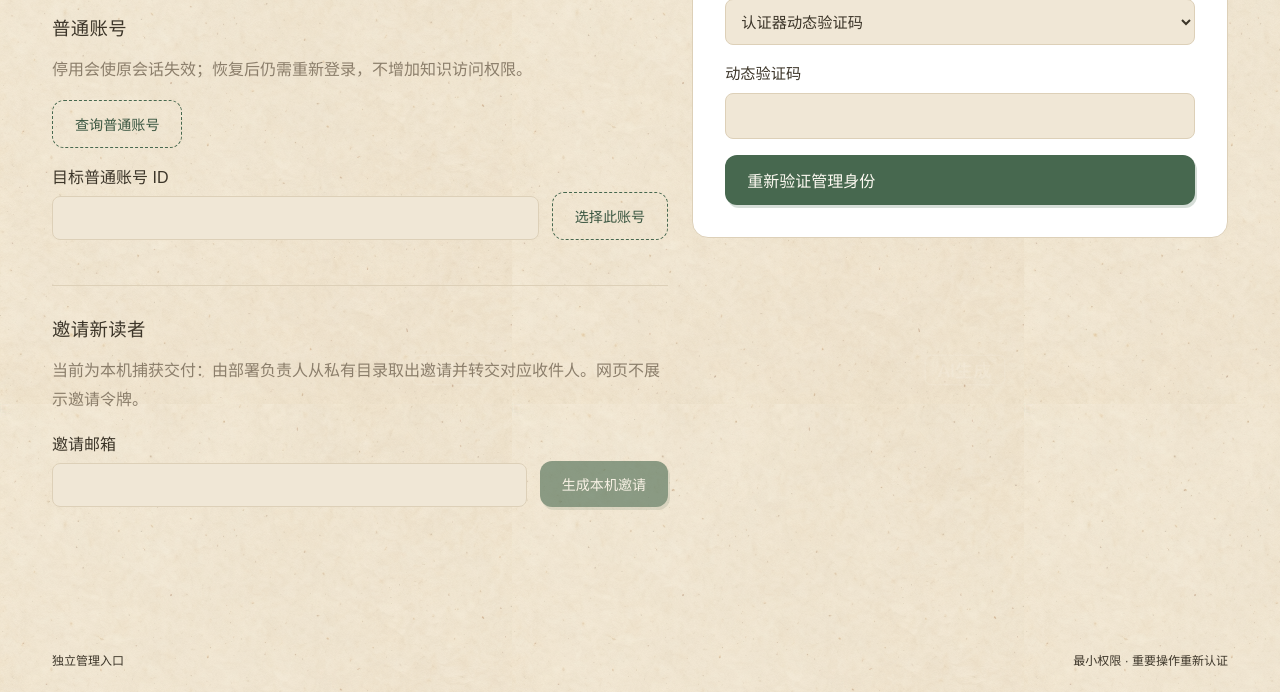
Test: 邀请仅显示本机投递编号，不声称发送邮件或暴露令牌
(page scrolled)
In the field labelled "邀请邮箱": (289, 485) [52, 463, 527, 507], type "new@example.test"
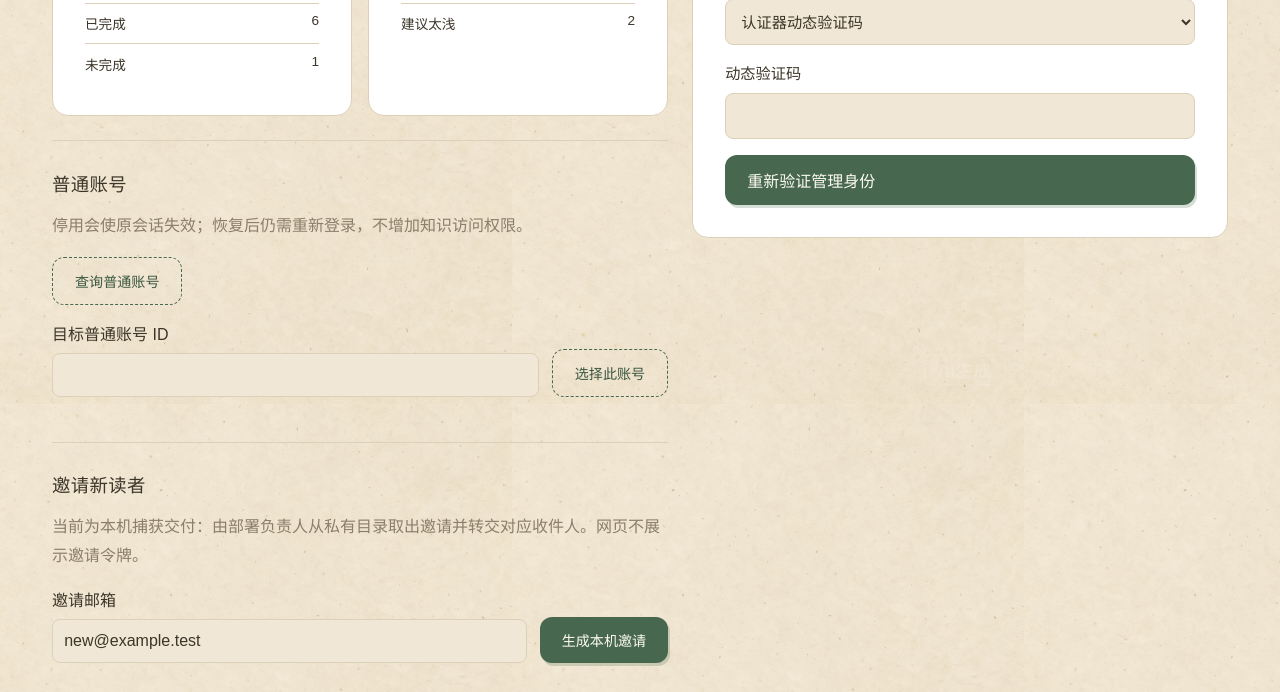
Click the button "生成本机邀请": (604, 640) [540, 617, 668, 663]
(page scrolled)
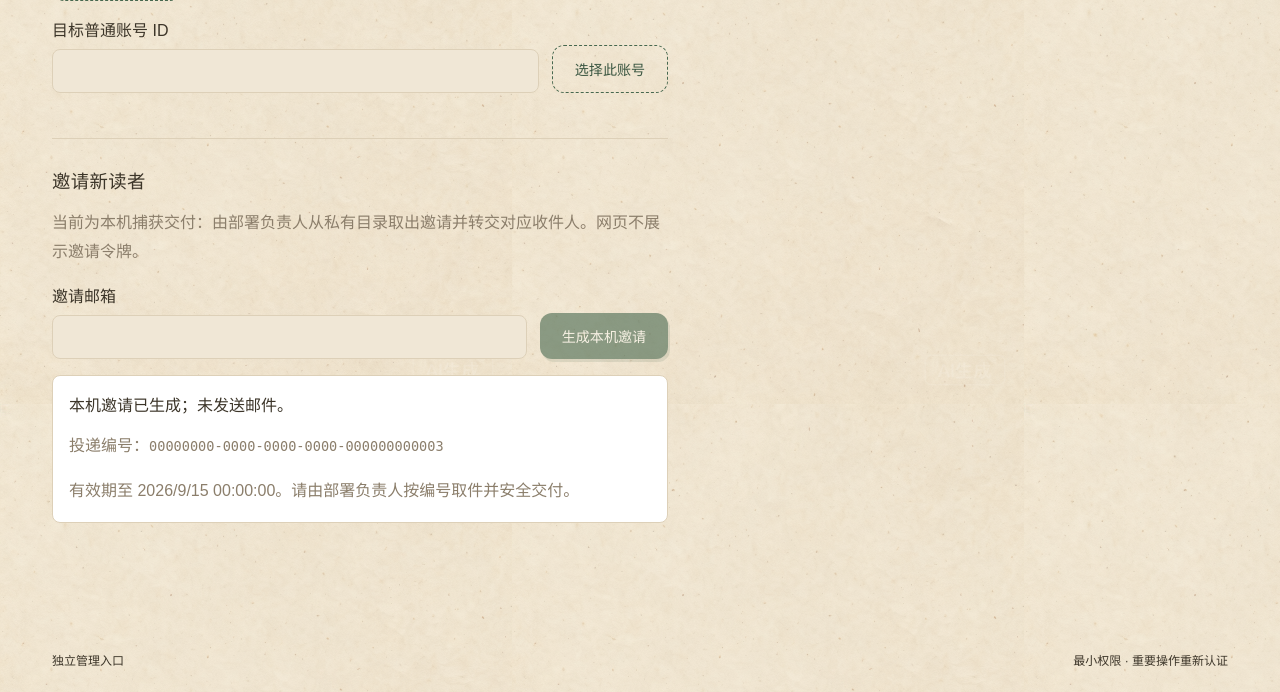
Expected: the text "00000000-0000-0000-0000-000000000003" is shown, [149, 438, 444, 454]
Expected: the text "本机邀请已生成；未发送邮件。" is shown, [69, 397, 293, 414]
